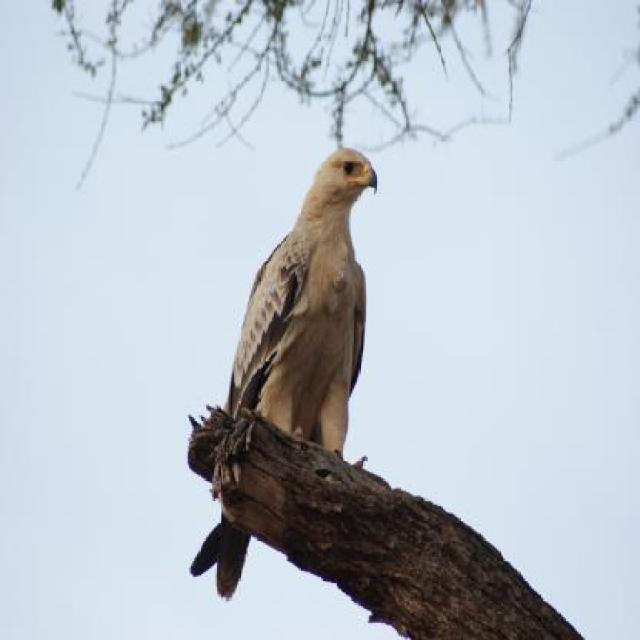Eagle: (184, 142, 382, 598)
